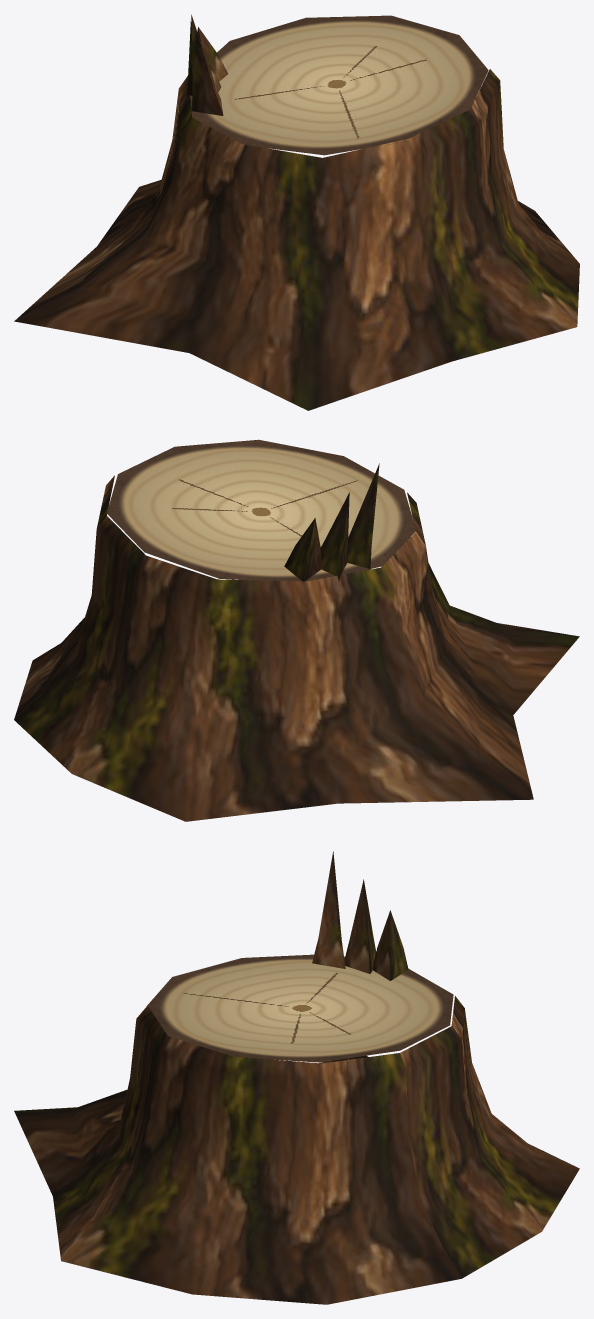
The model's file is tree_stump.glb.
3 renders of one model, top to bottom at view 1: azimuth 30°, elevation 25°; view 2: azimuth 150°, elevation 25°; view 3: azimuth 270°, elevation 25°, orthographic. The views are drawn at different scales.
Visible parts, largest first — view 1: tree_stump; view 2: tree_stump; view 3: tree_stump.
Part boxes in pixels (box(x1,y1,x2,y2)): tree_stump: box(14, 14, 579, 410); tree_stump: box(14, 439, 579, 821); tree_stump: box(14, 851, 579, 1304).
Bounding box in the file's own units: 1.19 × 0.6241 × 1.13.
Materials: 2 (2 with a texture image).
